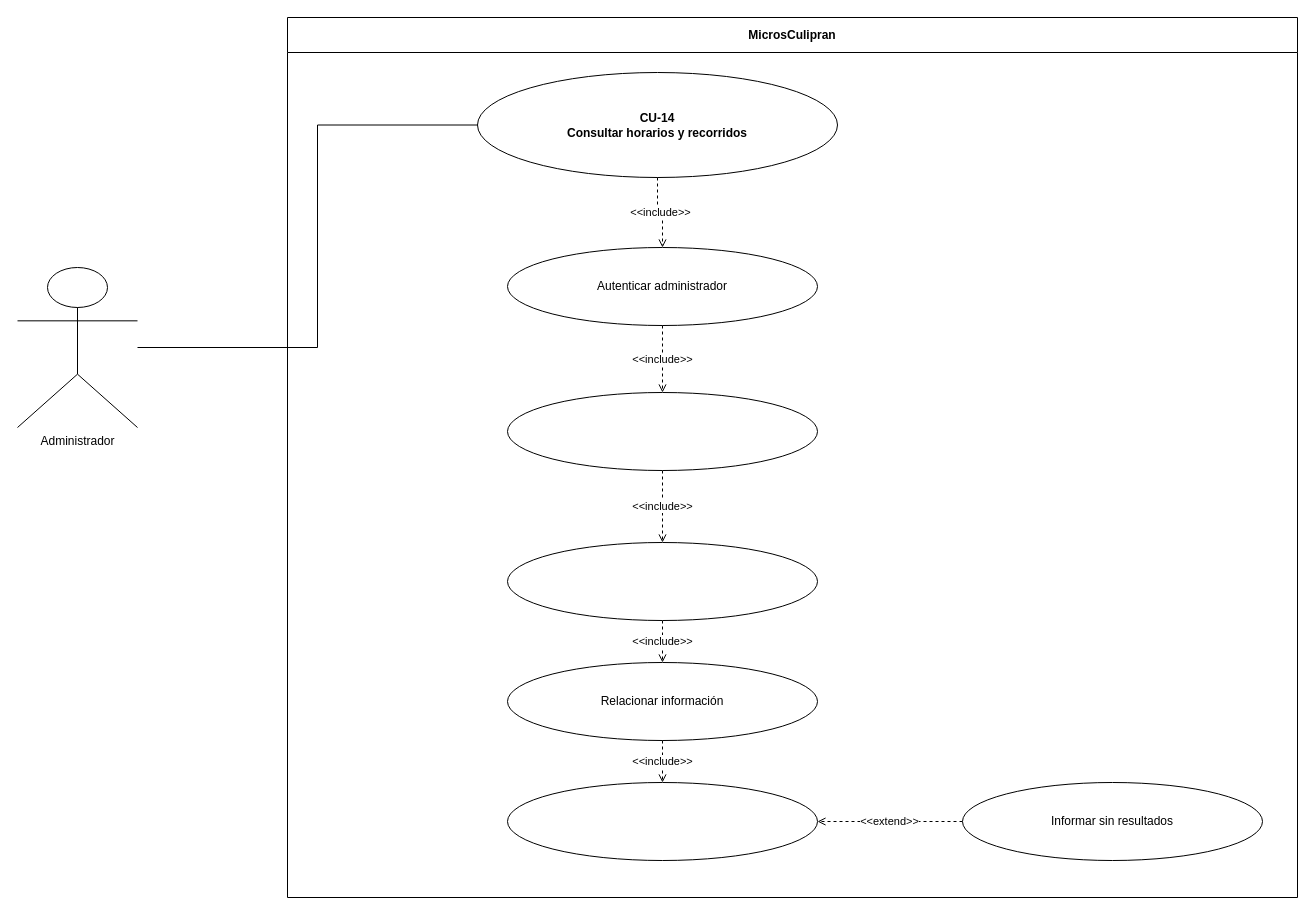
Image size: 1315x915. Some labels were removed from this diagram. The centre of each missing label's shape, as x and y in pixels:
"Consultar horarios" belongs at point (662, 431).
"Consultar recorridos" belongs at point (662, 581).
"Mostrar resultados" belongs at point (662, 821).
